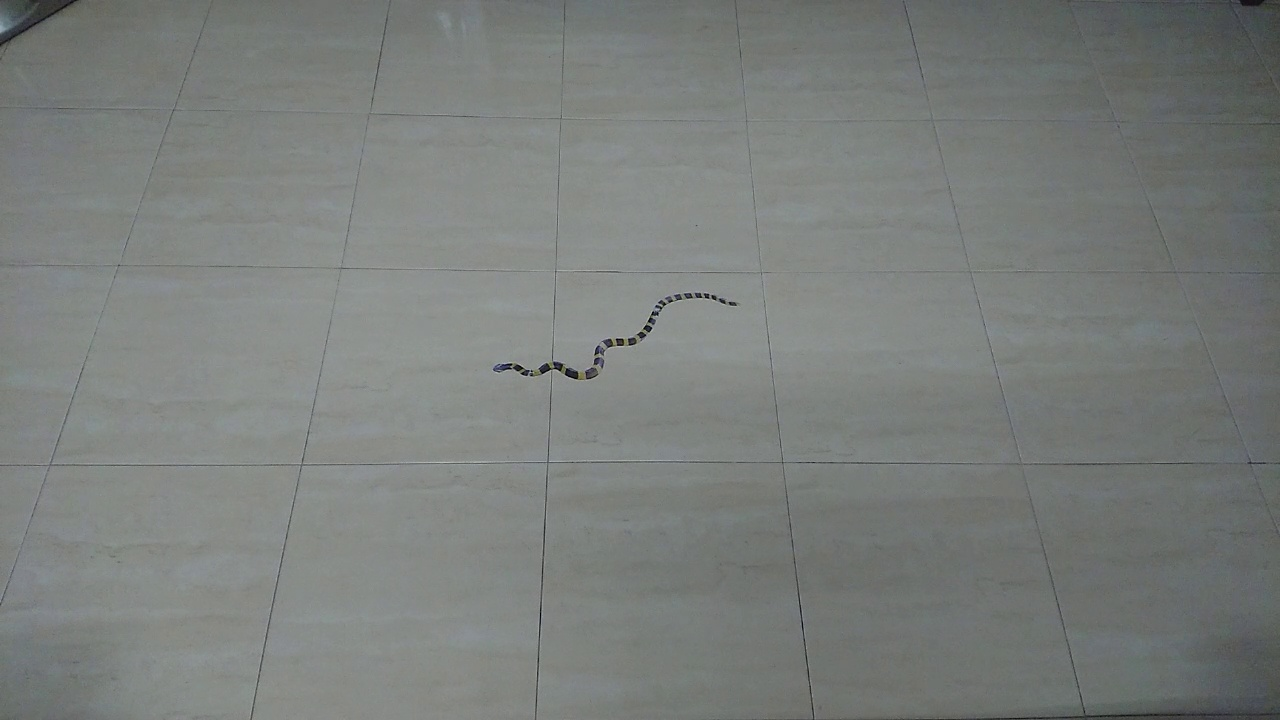snake: (481, 278, 753, 401)
